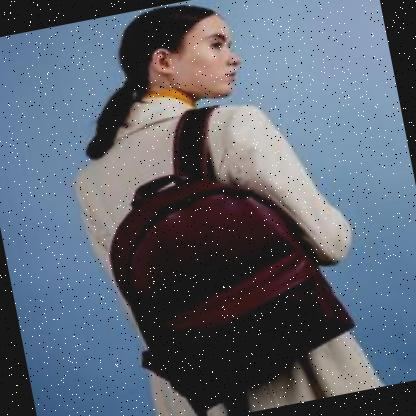bag: (86, 113, 369, 416)
